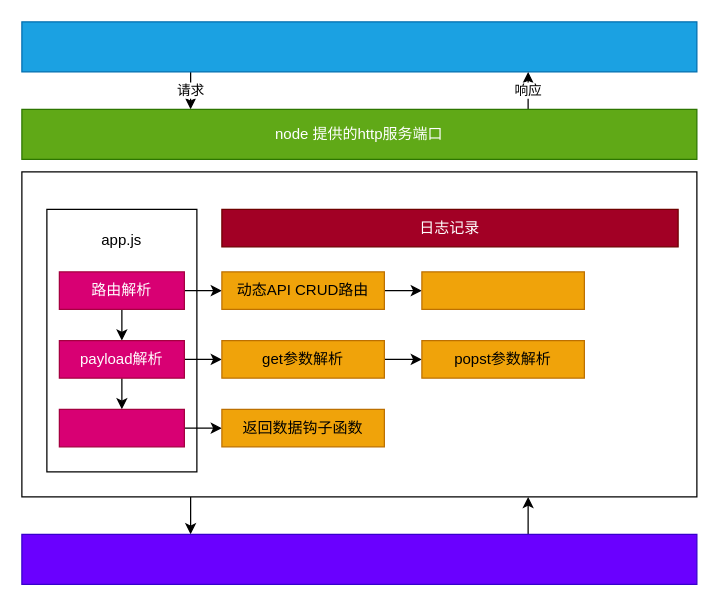
Image size: 719x606. Some labels were removed from this diagram. The centre of each missing label's shape, as x and y in pixels:
json 数据库: (359,558)
web页面: (359,46)
动态API接口路由: (502,290)
返回数据: (121,427)
